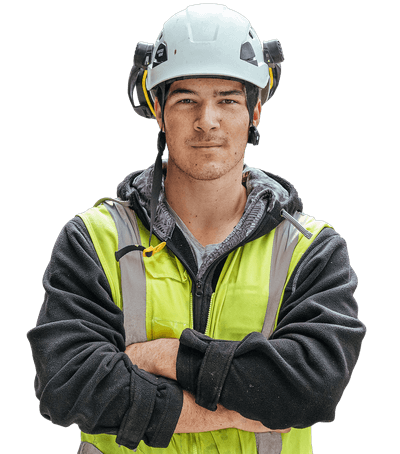hard hat: (147, 2, 270, 86)
high-vis: (74, 195, 337, 454)
